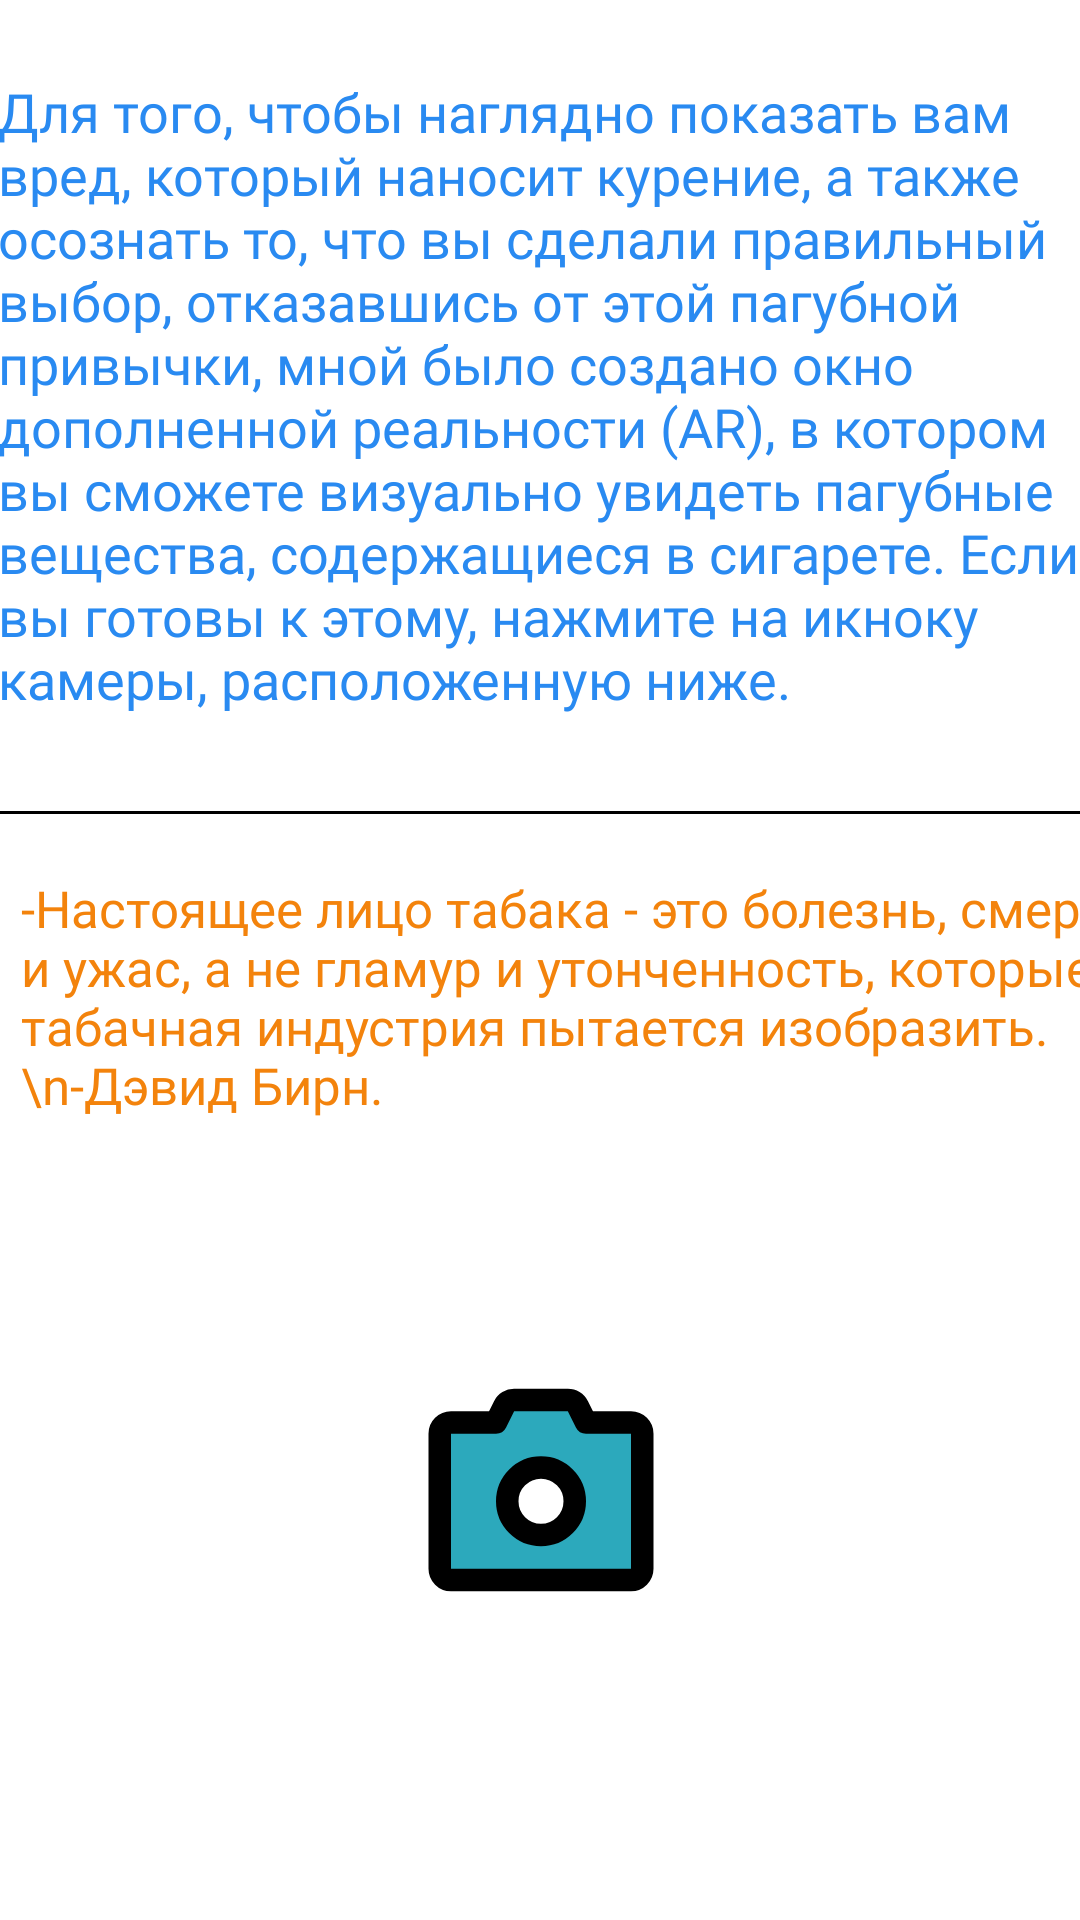

Screen size 1080 × 1920. Icon name, then its center in pixels as point (x, y):
photo camera: point (541, 1490)
